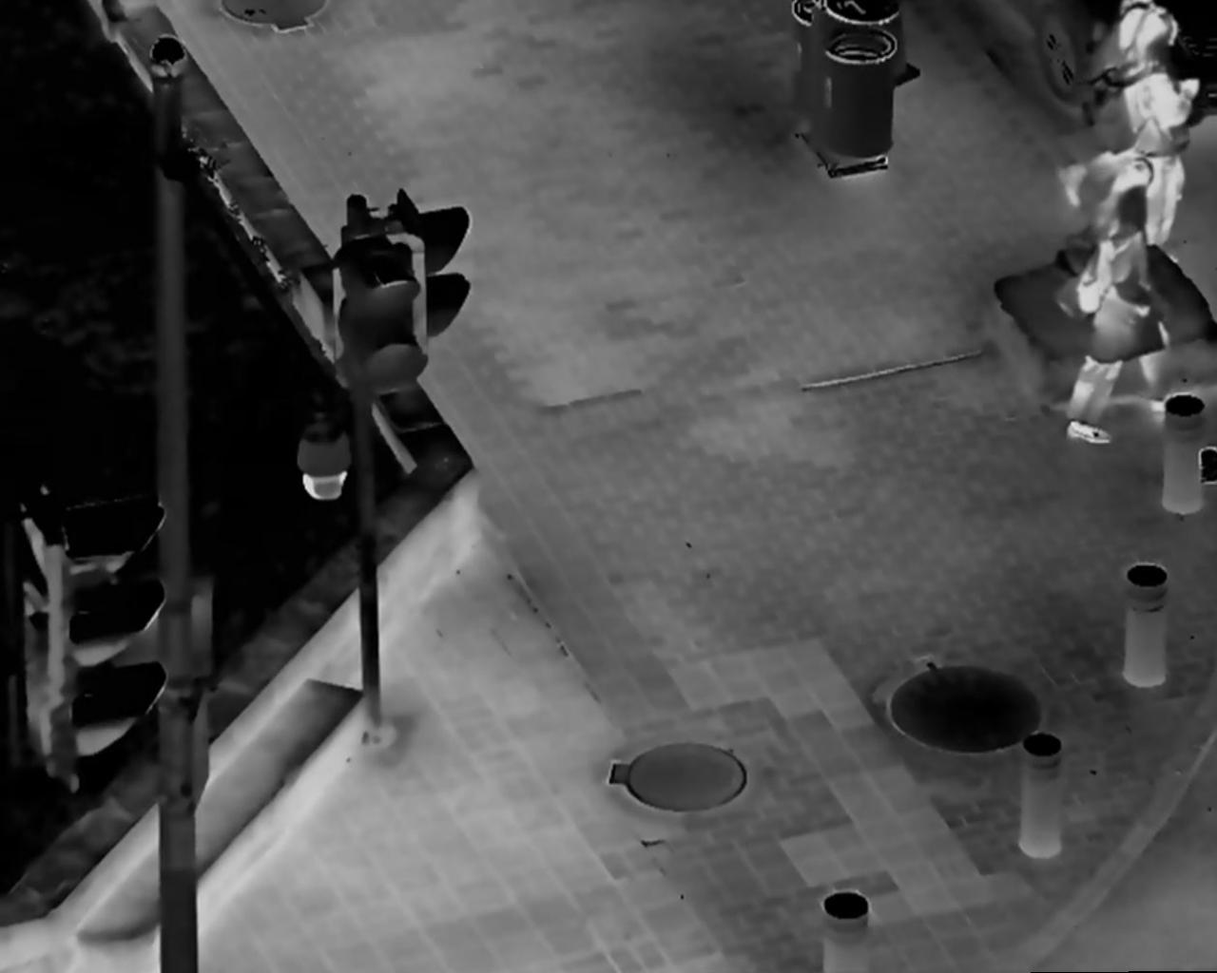person: (1071, 150, 1189, 462)
